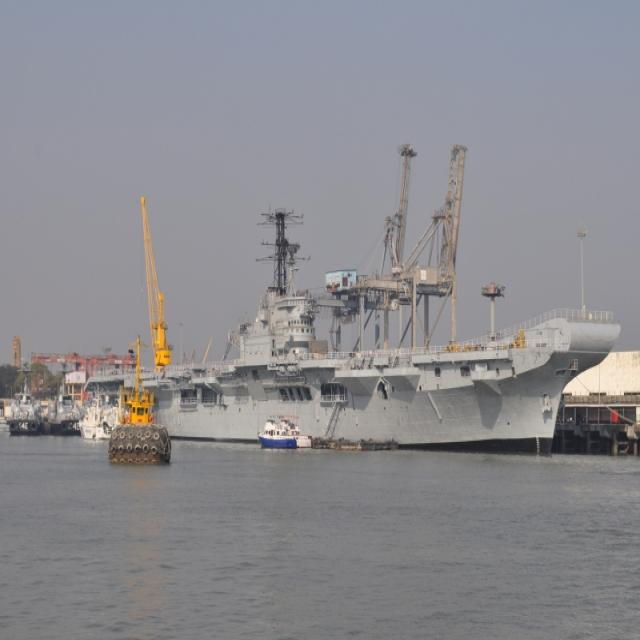Portanaves: (99, 177, 632, 458)
